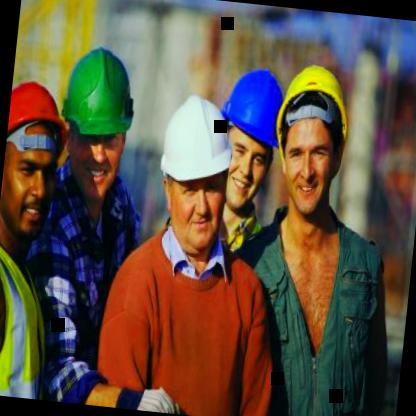helmet: (150, 92, 238, 254), (266, 57, 354, 218), (54, 44, 138, 204), (0, 76, 73, 243), (210, 63, 290, 215)
